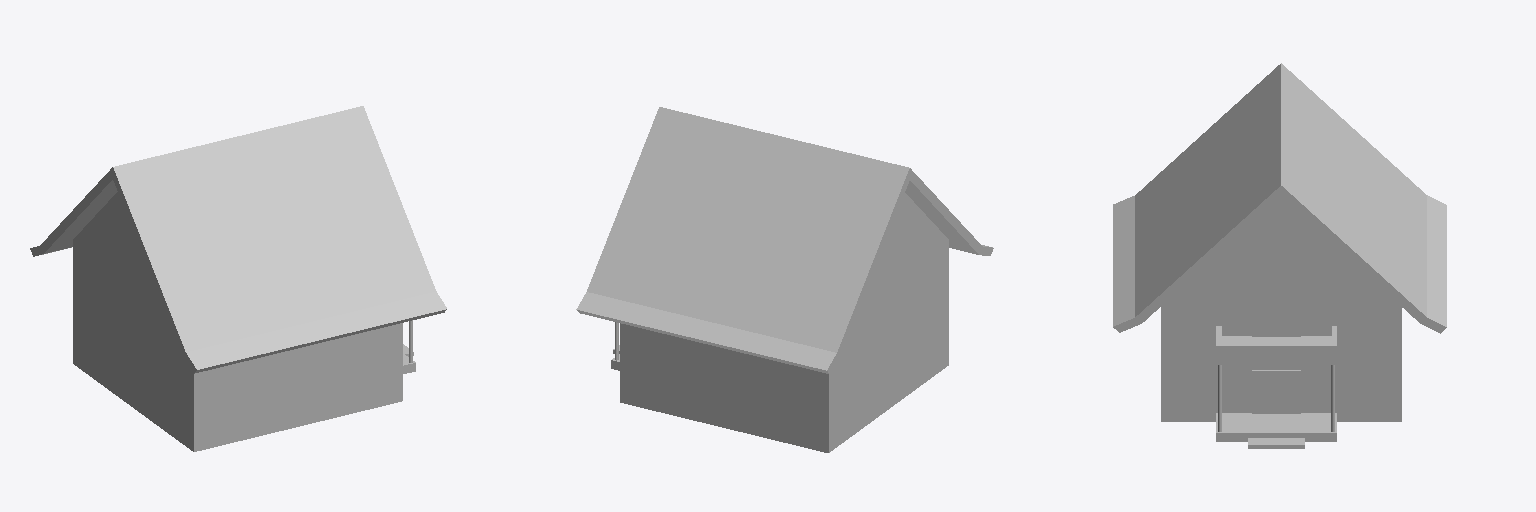
File: House.obj
The picture shows the model from 3 angles: view 1: azimuth 30°, elevation 25°; view 2: azimuth 150°, elevation 25°; view 3: azimuth 270°, elevation 25°; orthographic projection.
Parts seen in each view (by area): view 1: Cube.002, Cube; view 2: Cube.002, Cube; view 3: Cube.002, Cube, Cube.004_Cube.005, Cube.001_Cube.003, Cube.005_Cube.006, Cube.006_Cube.007, Cube.003_Cube.004.
Boxes of the visible parts, x1=… form: Cube.002: x1=30, y1=106, x2=446, y2=373; Cube: x1=73, y1=192, x2=402, y2=451; Cube.002: x1=576, y1=107, x2=993, y2=373; Cube: x1=620, y1=193, x2=948, y2=452; Cube.002: x1=1113, y1=63, x2=1446, y2=333; Cube: x1=1161, y1=198, x2=1401, y2=421; Cube.004_Cube.005: x1=1216, y1=326, x2=1336, y2=364; Cube.001_Cube.003: x1=1216, y1=413, x2=1336, y2=441; Cube.005_Cube.006: x1=1252, y1=370, x2=1300, y2=413; Cube.006_Cube.007: x1=1252, y1=293, x2=1300, y2=336; Cube.003_Cube.004: x1=1248, y1=438, x2=1304, y2=448.
Bounding box in the file's own units: 13.65 × 11.3 × 13.88.